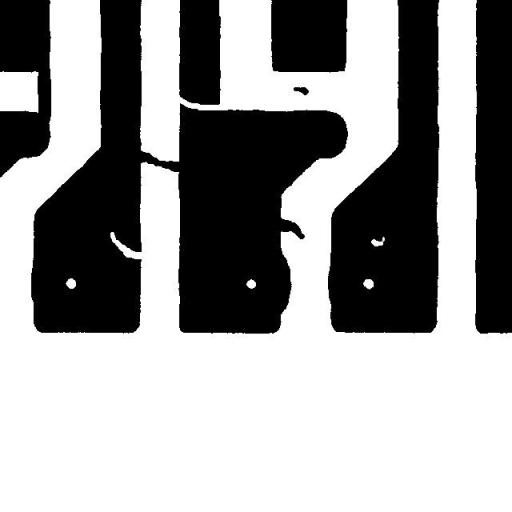copper: (286, 80, 316, 102)
mousebite: (102, 224, 152, 266)
open: (166, 84, 236, 118)
pin-hole: (363, 228, 392, 254)
short: (124, 142, 190, 180), (30, 58, 58, 133)
spur: (263, 208, 312, 246)
